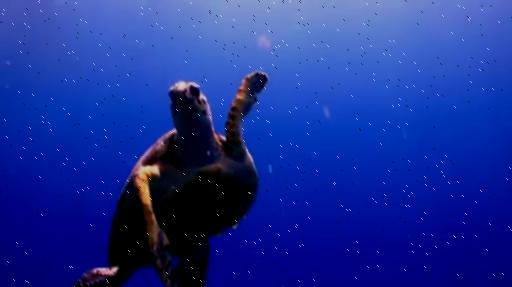Fish: (90, 72, 268, 286)
